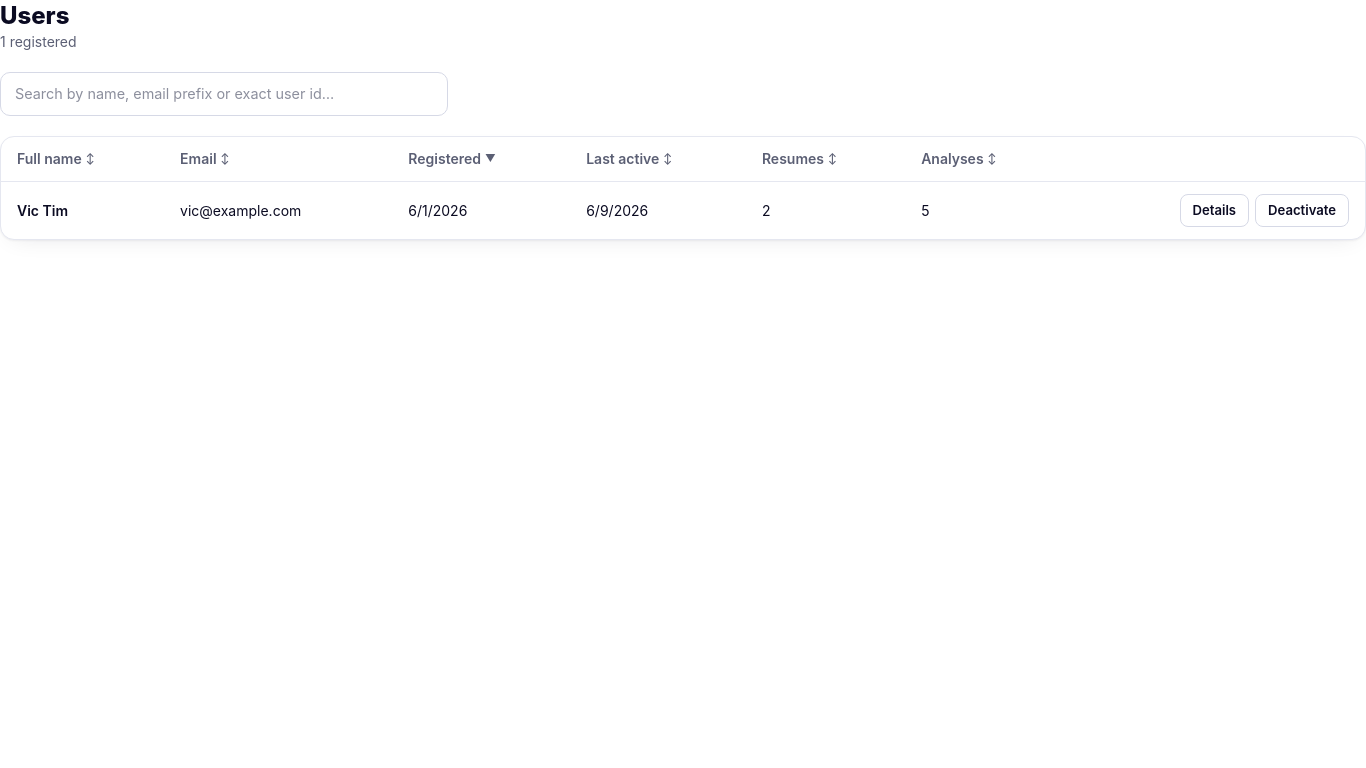
Test: admin users list (issue #79 / 9.2) › renders the PROMPT.md columns and the deactivate confirm flow
This screenshot has width=1366, height=768.
Check: the column heading "Full name ↕" is shown, box x1=1 y1=137 x2=164 y2=182
Check: the column heading "Email ↕" is shown, box x1=164 y1=137 x2=392 y2=182
Click the button with aria-label "Deactivate Vic Tim" at {"x": 1302, "y": 211}, box x1=1255 y1=194 x2=1349 y2=227
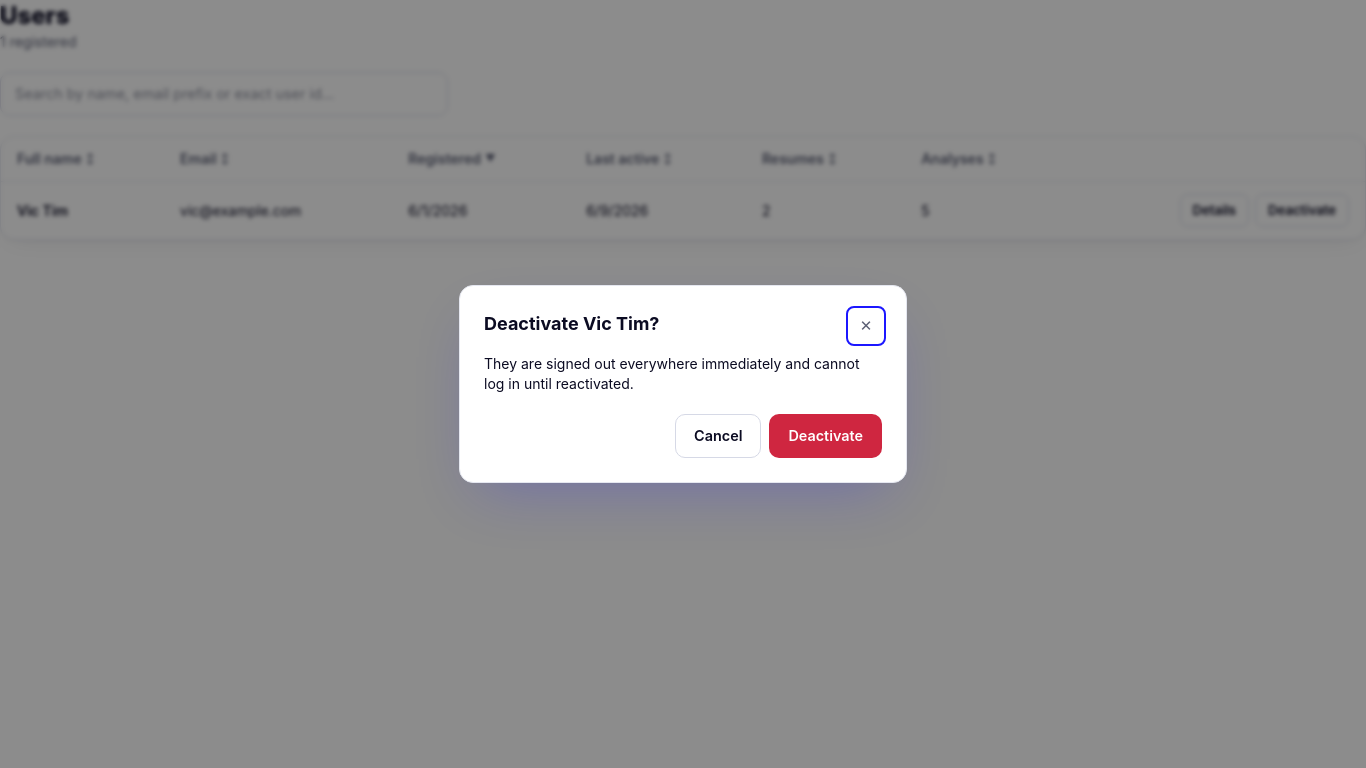
Click the button "Deactivate" at {"x": 826, "y": 436}, box x1=769 y1=414 x2=882 y2=458
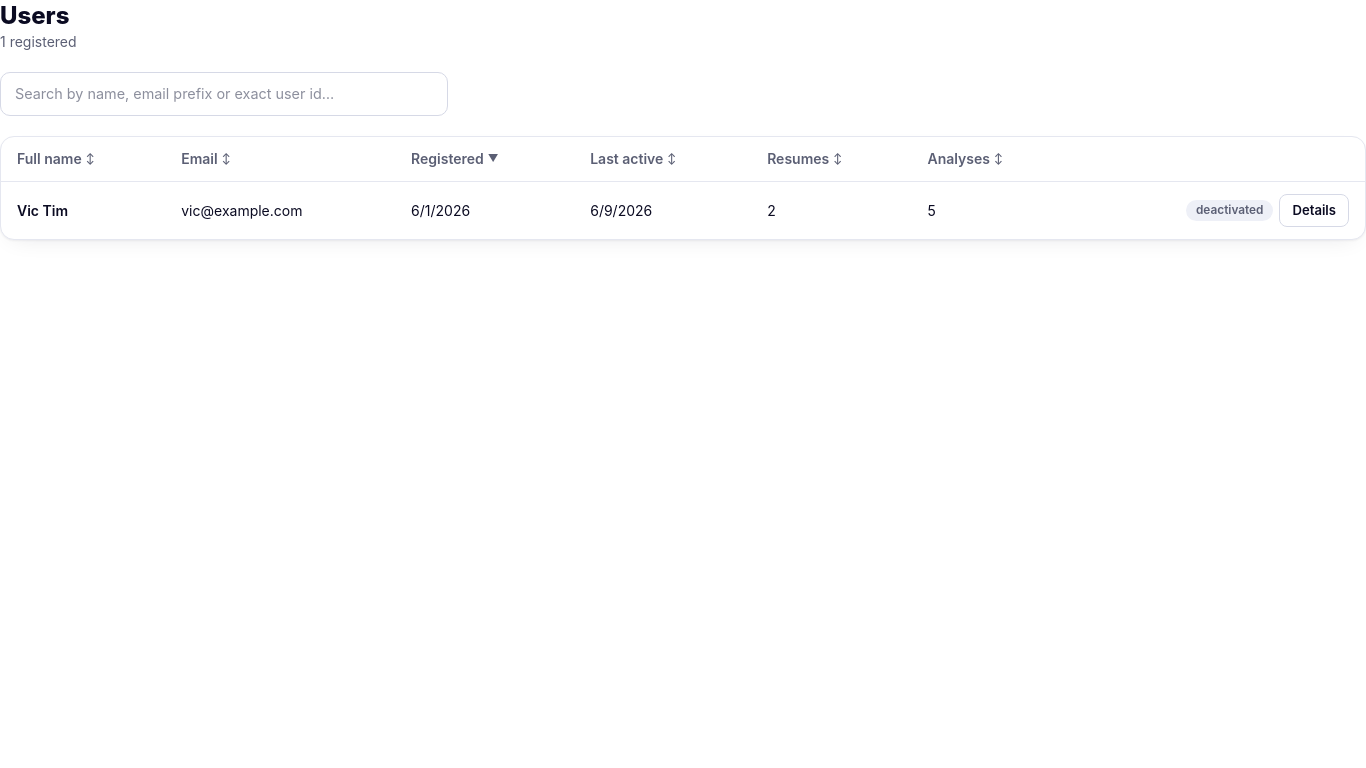
Check: the text "deactivated" is shown, box x1=1186 y1=200 x2=1274 y2=221
